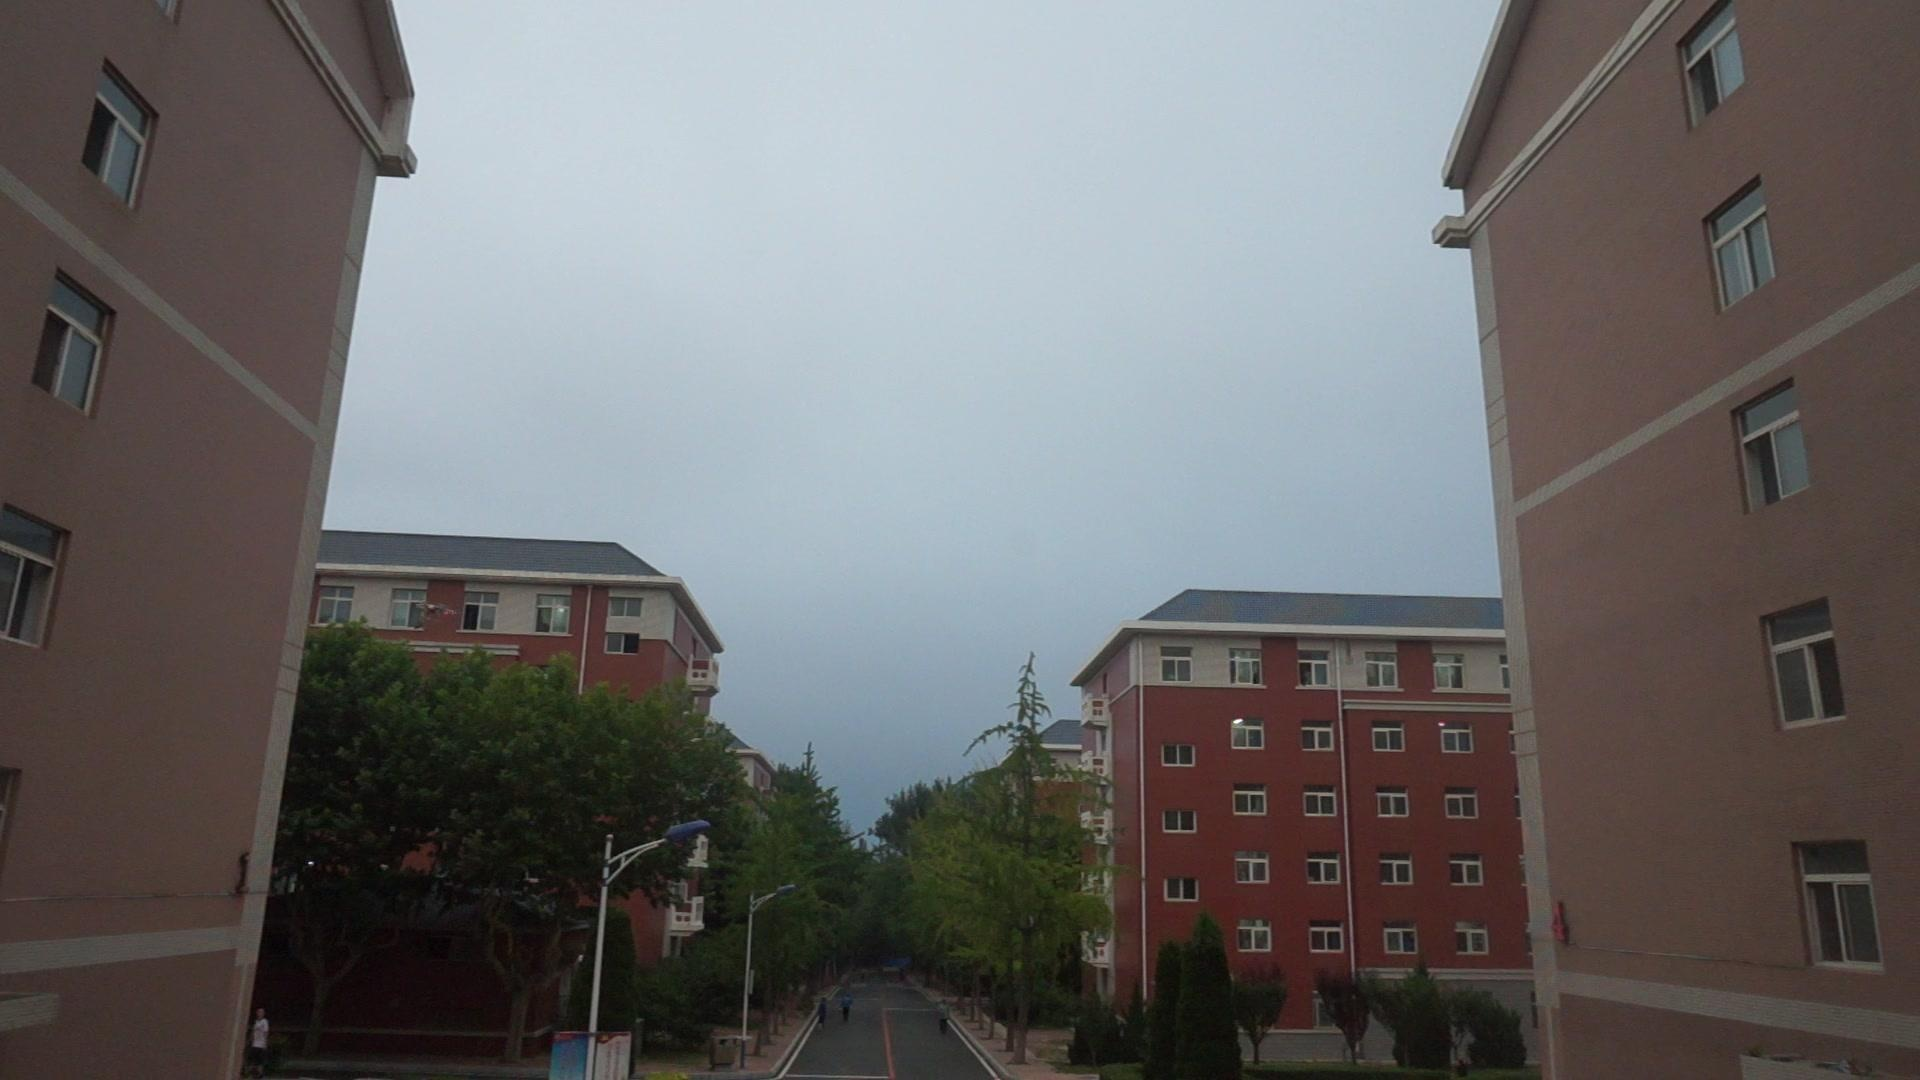UAV: (417, 603, 462, 621)
